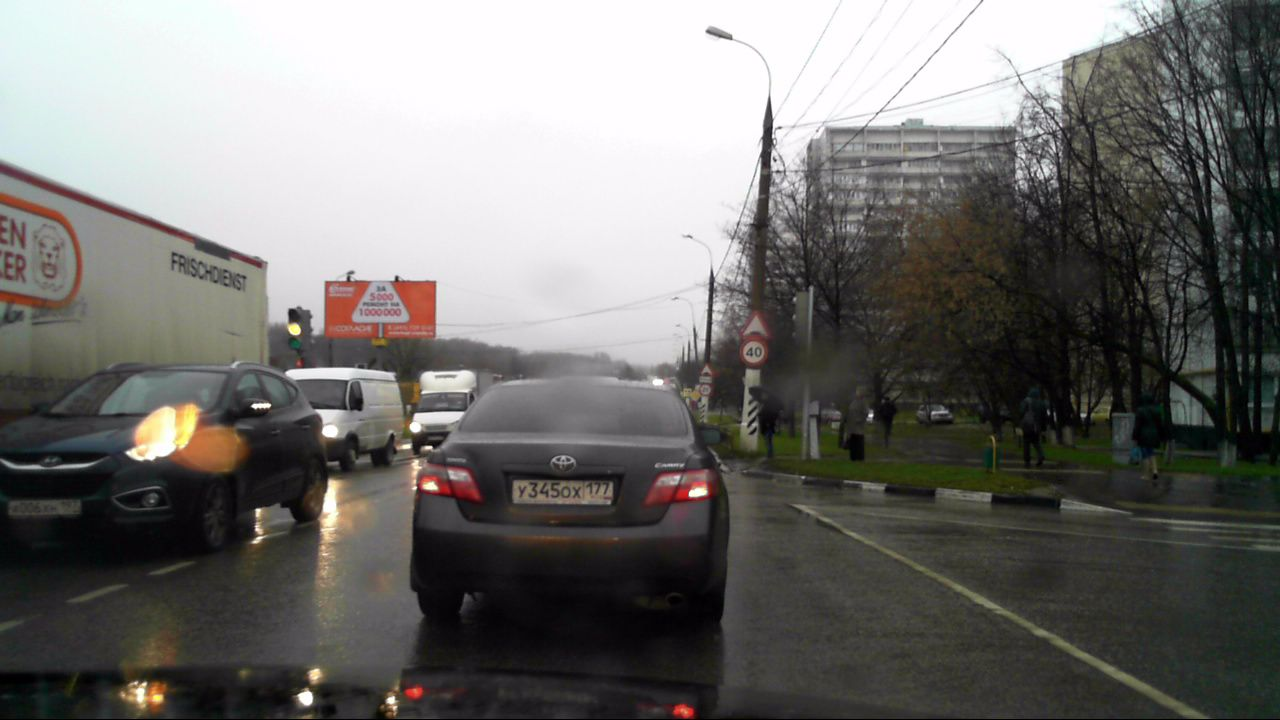speed_warning_40: (742, 340, 765, 363)
